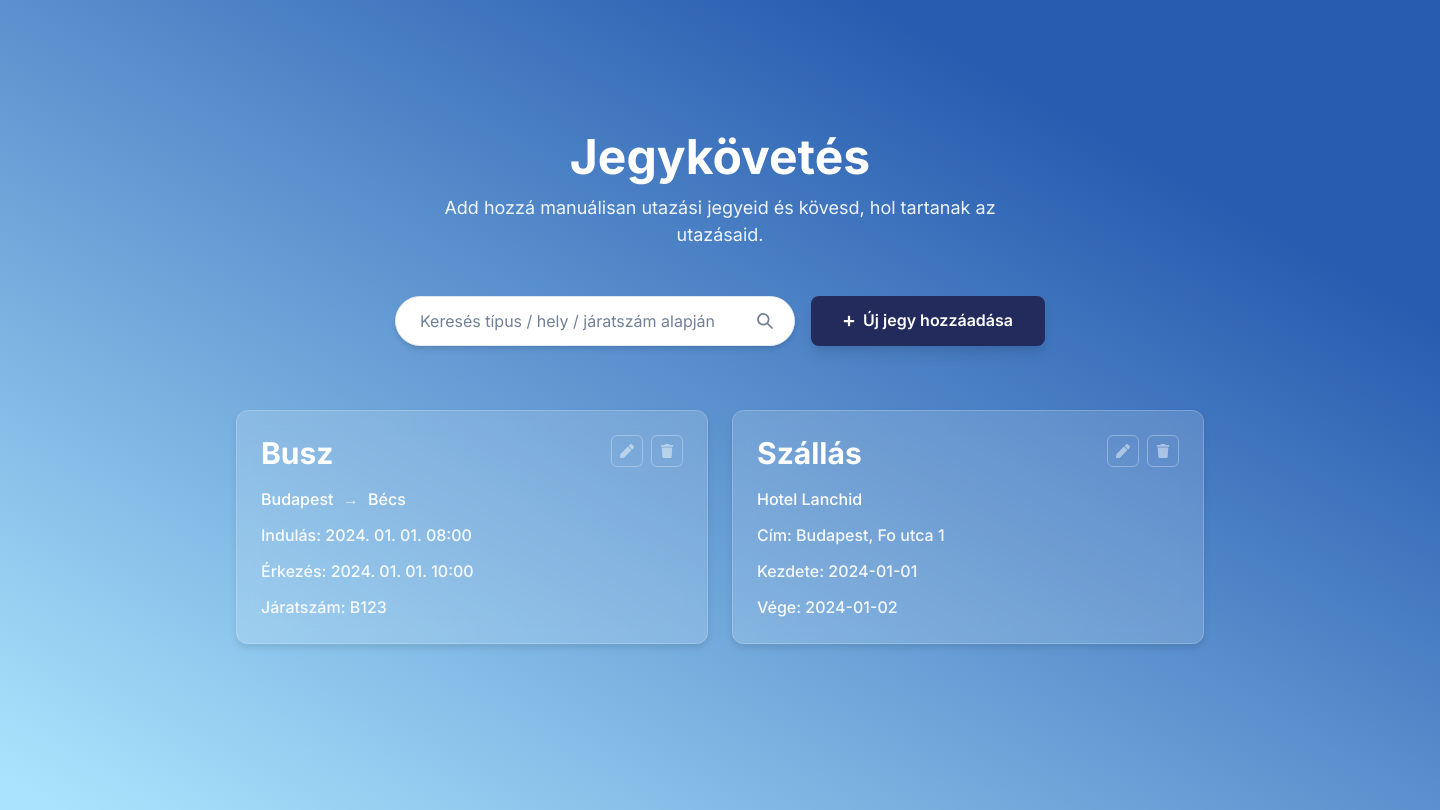
JegyKovetesOldal › szűri a listát keresés alapján
Check: the heading "busz" is shown, box [261, 435, 334, 471]
Type "hotel" into the field with placeholder "Keresés típus / hely / járatszám alapján" at (595, 321), box [395, 296, 795, 346]
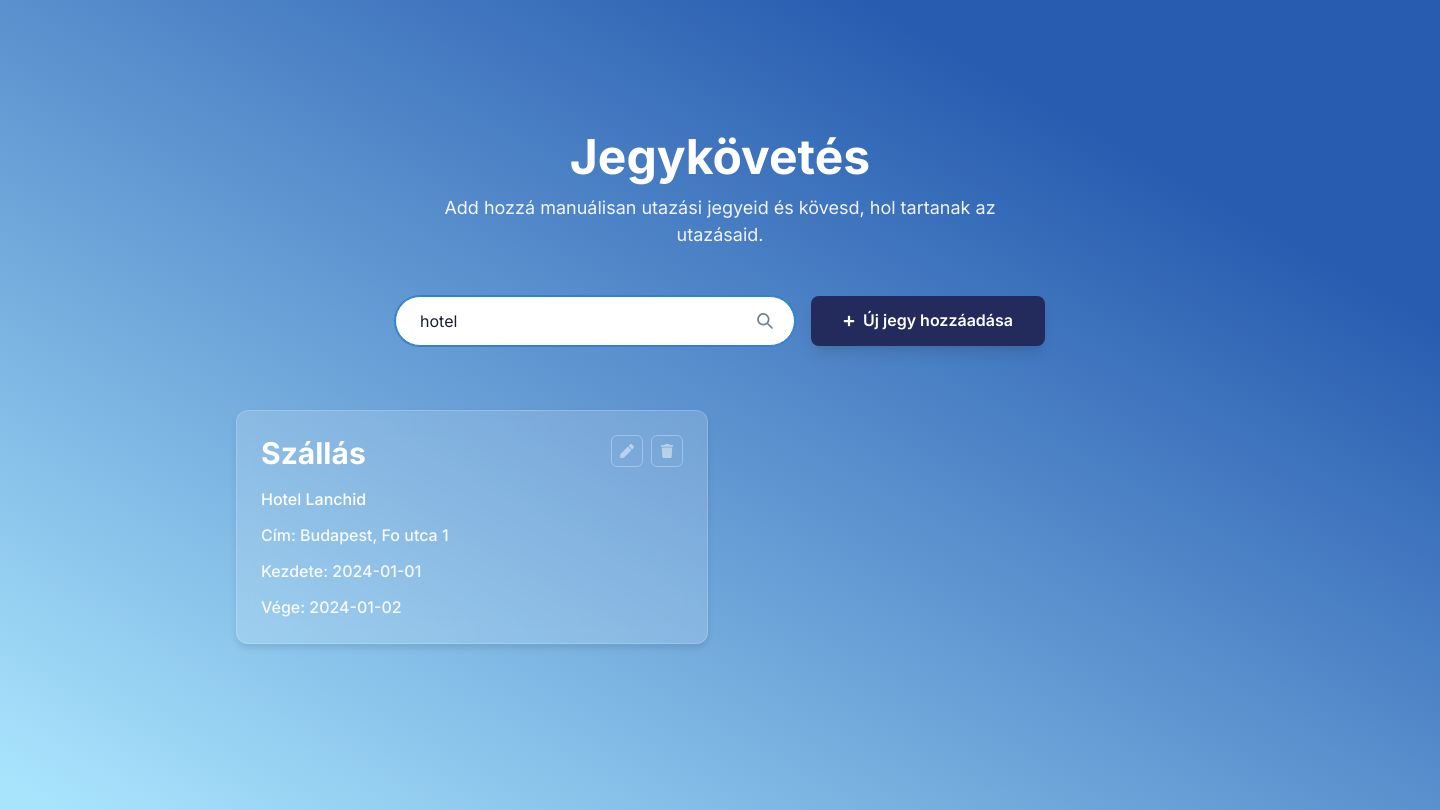
Check: the text "Hotel Lanchid" is shown, box [261, 487, 366, 511]
Check: the heading "busz" is gone
